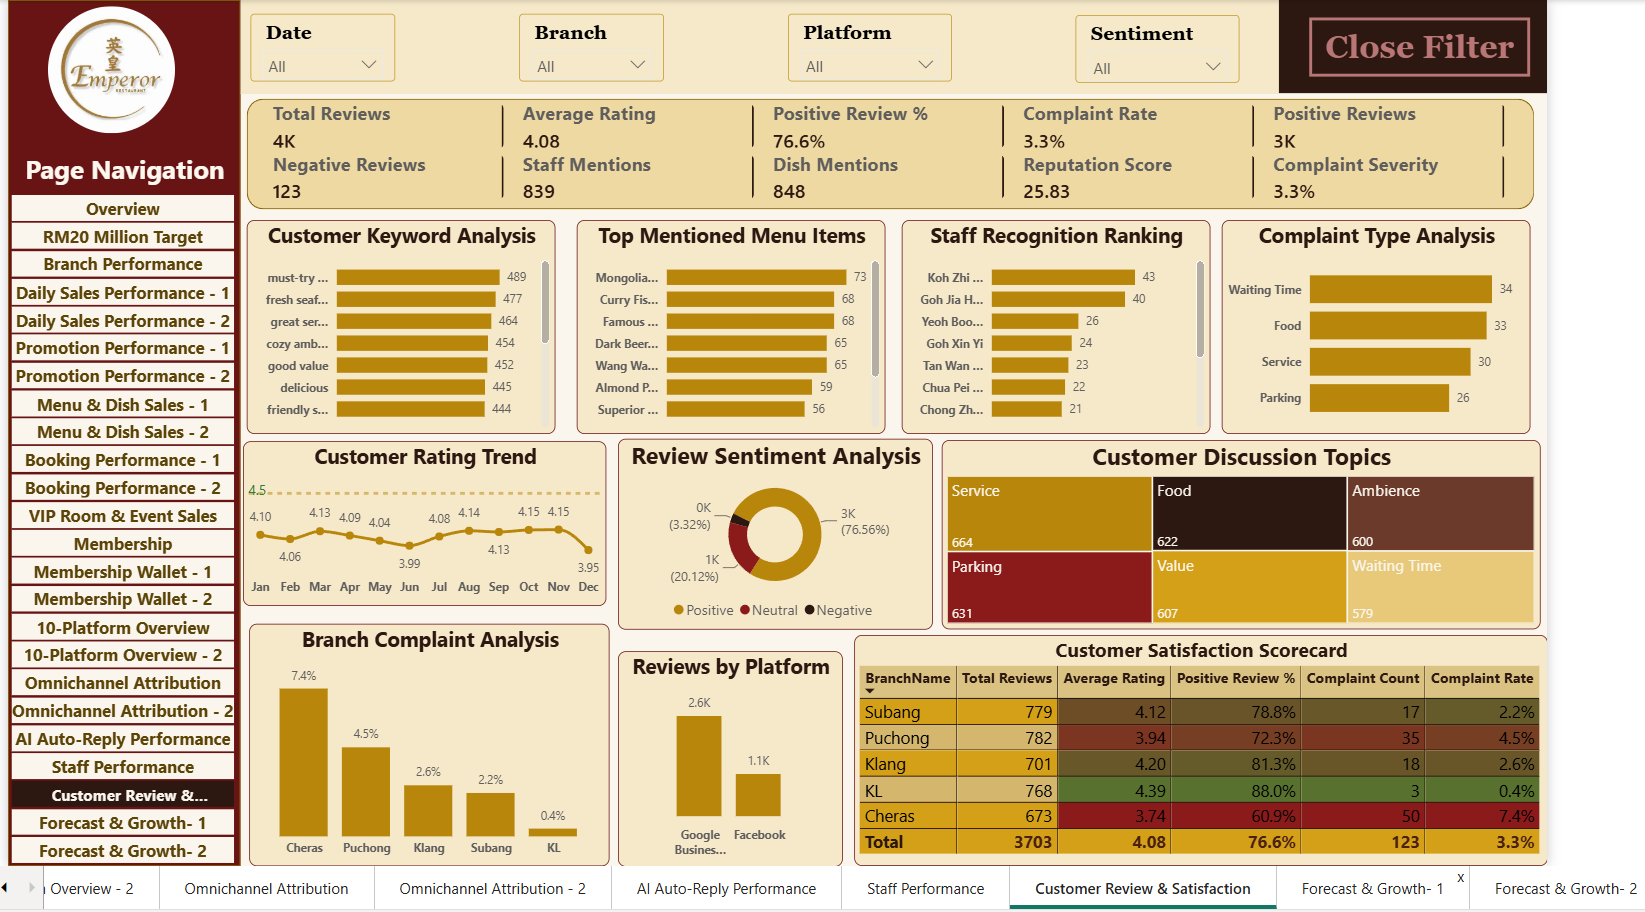

The dashboard page shown, as its layout file describes it:
{"tool":"powerbi","page":{"name":"Customer Review & Satisfaction","canvas":[1600,900],"ordinal":21},"visuals":[{"type":"lineChart","title":"Customer Rating Trend","fields":{"Category":["Dim_Date.MonthShort"],"Y":["__DAX_Measures.Average Rating"]},"box":[244.4,458.7,377.8,171.4],"z":0},{"type":"donutChart","title":"Review Sentiment Analysis","fields":{"Category":["Fact_Review.Sentiment"],"Y":["__DAX_Measures.Total Reviews"]},"box":[633.3,455.6,327,198.4],"z":1000},{"type":"actionButton","box":[27.9,656.3,99.8,39.6],"z":2000},{"type":"clusteredColumnChart","title":"Reviews by Platform","fields":{"Category":["Dim_Platform.PlatformName"],"Y":["__DAX_Measures.Total Reviews"]},"box":[633.3,676.2,233.3,223.8],"z":3000},{"type":"barChart","title":"Complaint Type Analysis","fields":{"Category":["Fact_Review.ComplaintType"],"Y":["__DAX_Measures.Complaint Count"]},"box":[1261.9,228.6,320.6,222.2],"z":4000},{"type":"treemap","title":"Customer Discussion Topics","fields":{"Group":["Fact_Review.ReviewTopic"],"Values":["__DAX_Measures.Total Reviews"]},"box":[969.8,457.1,622.2,196.8],"z":5000},{"type":"barChart","title":"Staff Recognition Ranking","fields":{"Category":["Dim_Staff.StaffName"],"Y":["__DAX_Measures.Staff Mention Reviews"]},"box":[928.6,228.6,320.6,222.2],"z":6000},{"type":"barChart","title":"Top Mentioned Menu Items","fields":{"Category":["Dim_MenuItem.ItemNameEN"],"Y":["__DAX_Measures.Dish Mention Reviews"]},"box":[590.5,228.6,320.6,222.2],"z":7000},{"type":"clusteredColumnChart","title":"Branch Complaint Analysis","fields":{"Category":["Dim_Branch.BranchName"],"Y":["__DAX_Measures.Complaint Rate"]},"box":[250.8,647.6,374.6,252.4],"z":8000},{"type":"barChart","title":"Customer Keyword Analysis","fields":{"Category":["Fact_Review.Keyword"],"Y":["__DAX_Measures.Total Reviews"]},"box":[247.6,228.6,320.6,222.2],"z":9000},{"type":"pivotTable","title":"Customer Satisfaction Scorecard","fields":{"Rows":["Dim_Branch.BranchName"],"Values":["__DAX_Measures.Total Reviews","__DAX_Measures.Average Rating","__DAX_Measures.Positive Review %","__DAX_Measures.Complaint Count","__DAX_Measures.Complaint Rate"]},"box":[879.4,660.3,720.6,239.7],"z":10000},{"type":"shape","box":[0,0,241.6,900.2],"z":11000},{"type":"shape","box":[248.7,102.9,1337.9,114.9],"z":12000},{"type":"cardVisual","fields":{"Data":["__DAX_Measures.Total Reviews","__DAX_Measures.Average Rating","__DAX_Measures.Positive Review %","__DAX_Measures.Complaint Rate","__DAX_Measures.Positive Reviews","__DAX_Measures.Negative Reviews","__DAX_Measures.Staff Mentions","__DAX_Measures.Dish Mentions","__DAX_Measures.Reputation Score","__DAX_Measures.Complaint Severity"]},"box":[251.5,97.4,1318.3,120.6],"z":13000},{"type":"textbox","box":[241.3,0,1359,97],"z":14000},{"type":"shape","box":[241.9,0,1078.9,97.8],"z":15000},{"type":"actionButton","title":"Close Filter","box":[1352,18.1,229.6,61.5],"z":16000},{"type":"slicer","fields":{"Values":["Dim_Date.Date"]},"box":[252.1,14.7,150,70],"z":18000},{"type":"slicer","fields":{"Values":["Dim_Branch.BranchName"]},"box":[531.4,14.6,150,70.3],"z":19000},{"type":"slicer","fields":{"Values":["Dim_Platform.PlatformName"]},"box":[810.7,14.7,170,70],"z":20000},{"type":"slicer","fields":{"Values":["Fact_Review.Sentiment"]},"box":[1110,16,170,70],"z":21000},{"type":"image","box":[41.9,6.2,131.9,131.9],"z":22000},{"type":"pageNavigator","box":[4.4,202.3,231.1,697.7],"z":23000},{"type":"textbox","box":[0,152.6,242.7,46.5],"z":24000}]}

Visuals, with their boxes on the page's 1600x900 design canvas (x1, y1, x2, y2). These are canvas units, not pixel positions in the 1645x912 screenshot, which may show the page scaled, cropped or inside an application window:
"Customer Rating Trend" lineChart: {"x1": 244, "y1": 459, "x2": 622, "y2": 630}
"Review Sentiment Analysis" donutChart: {"x1": 633, "y1": 456, "x2": 960, "y2": 654}
actionButton: {"x1": 28, "y1": 656, "x2": 128, "y2": 696}
"Reviews by Platform" clusteredColumnChart: {"x1": 633, "y1": 676, "x2": 867, "y2": 900}
"Complaint Type Analysis" barChart: {"x1": 1262, "y1": 229, "x2": 1582, "y2": 451}
"Customer Discussion Topics" treemap: {"x1": 970, "y1": 457, "x2": 1592, "y2": 654}
"Staff Recognition Ranking" barChart: {"x1": 929, "y1": 229, "x2": 1249, "y2": 451}
"Top Mentioned Menu Items" barChart: {"x1": 590, "y1": 229, "x2": 911, "y2": 451}
"Branch Complaint Analysis" clusteredColumnChart: {"x1": 251, "y1": 648, "x2": 625, "y2": 900}
"Customer Keyword Analysis" barChart: {"x1": 248, "y1": 229, "x2": 568, "y2": 451}
"Customer Satisfaction Scorecard" pivotTable: {"x1": 879, "y1": 660, "x2": 1600, "y2": 900}
shape: {"x1": 0, "y1": 0, "x2": 242, "y2": 900}
shape: {"x1": 249, "y1": 103, "x2": 1587, "y2": 218}
cardVisual - __DAX_Measures.Total Reviews x __DAX_Measures.Average Rating: {"x1": 252, "y1": 97, "x2": 1570, "y2": 218}
textbox: {"x1": 241, "y1": 0, "x2": 1600, "y2": 97}
shape: {"x1": 242, "y1": 0, "x2": 1321, "y2": 98}
"Close Filter" actionButton: {"x1": 1352, "y1": 18, "x2": 1582, "y2": 80}
slicer - Dim_Date.Date: {"x1": 252, "y1": 15, "x2": 402, "y2": 85}
slicer - Dim_Branch.BranchName: {"x1": 531, "y1": 15, "x2": 681, "y2": 85}
slicer - Dim_Platform.PlatformName: {"x1": 811, "y1": 15, "x2": 981, "y2": 85}
slicer - Fact_Review.Sentiment: {"x1": 1110, "y1": 16, "x2": 1280, "y2": 86}
image: {"x1": 42, "y1": 6, "x2": 174, "y2": 138}
pageNavigator: {"x1": 4, "y1": 202, "x2": 236, "y2": 900}
textbox: {"x1": 0, "y1": 153, "x2": 243, "y2": 199}
